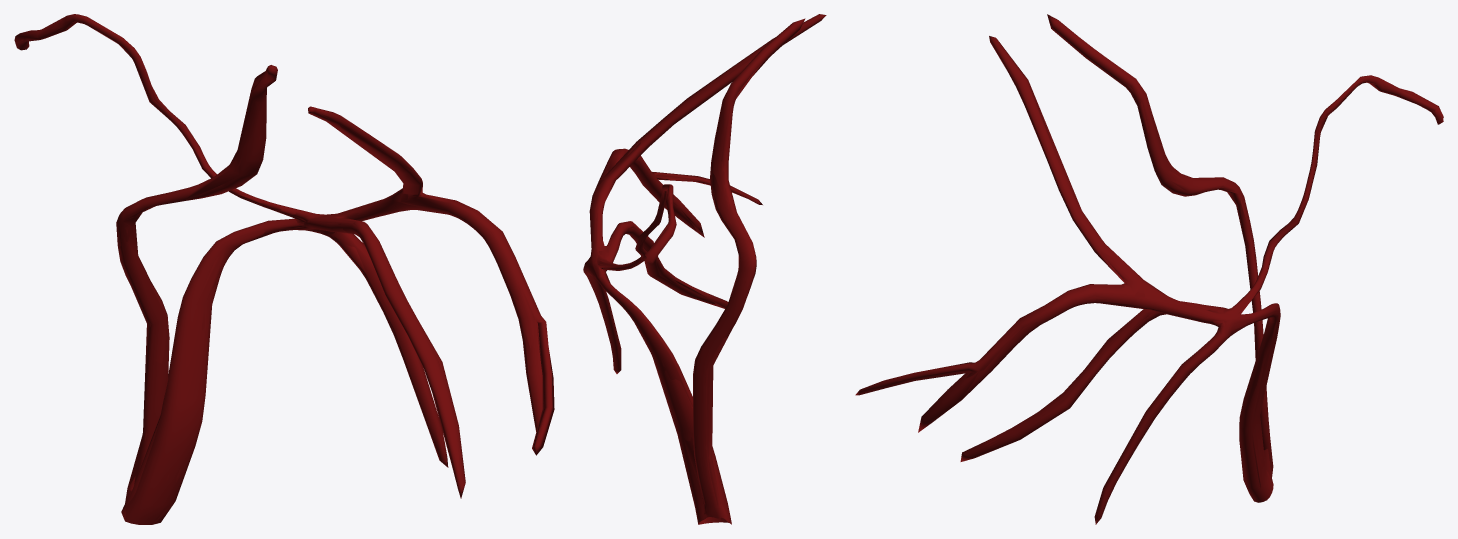
The model's file is L arteria occipitalis.fbx.
3 views of the same model, side by side, from view 1: azimuth 30°, elevation 25°; view 2: azimuth 150°, elevation 25°; view 3: azimuth 270°, elevation 25° (orthographic). The views are drawn at different scales.
Visible parts, largest first — view 1: L arteria occipitalis, L arteria occipitalis low, L arteria occipitalis high; view 2: L arteria occipitalis, L arteria occipitalis low, L arteria occipitalis high; view 3: L arteria occipitalis, L arteria occipitalis high, L arteria occipitalis low.
Boxes of the visible parts, box(x1,y1,x2,y2) form: L arteria occipitalis: box(14, 14, 554, 524); L arteria occipitalis low: box(24, 15, 552, 523); L arteria occipitalis high: box(16, 20, 552, 514); L arteria occipitalis: box(583, 14, 826, 523); L arteria occipitalis low: box(584, 22, 813, 524); L arteria occipitalis high: box(586, 26, 802, 524); L arteria occipitalis: box(855, 14, 1443, 524); L arteria occipitalis high: box(897, 33, 1443, 521); L arteria occipitalis low: box(889, 23, 1436, 500).
Bounding box in the file's own units: 6.2 × 11.4 × 12.56.
